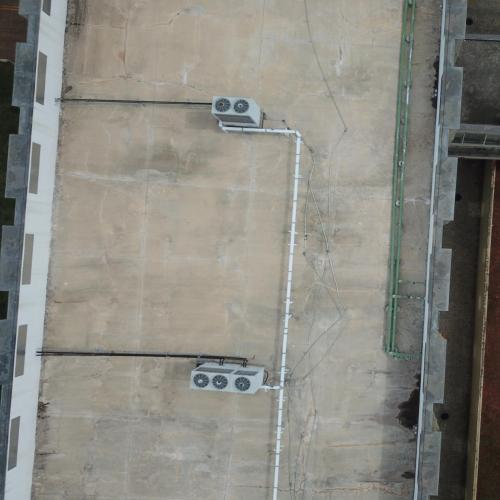conde: (210, 96, 266, 131), (189, 362, 231, 398), (231, 362, 267, 399)
